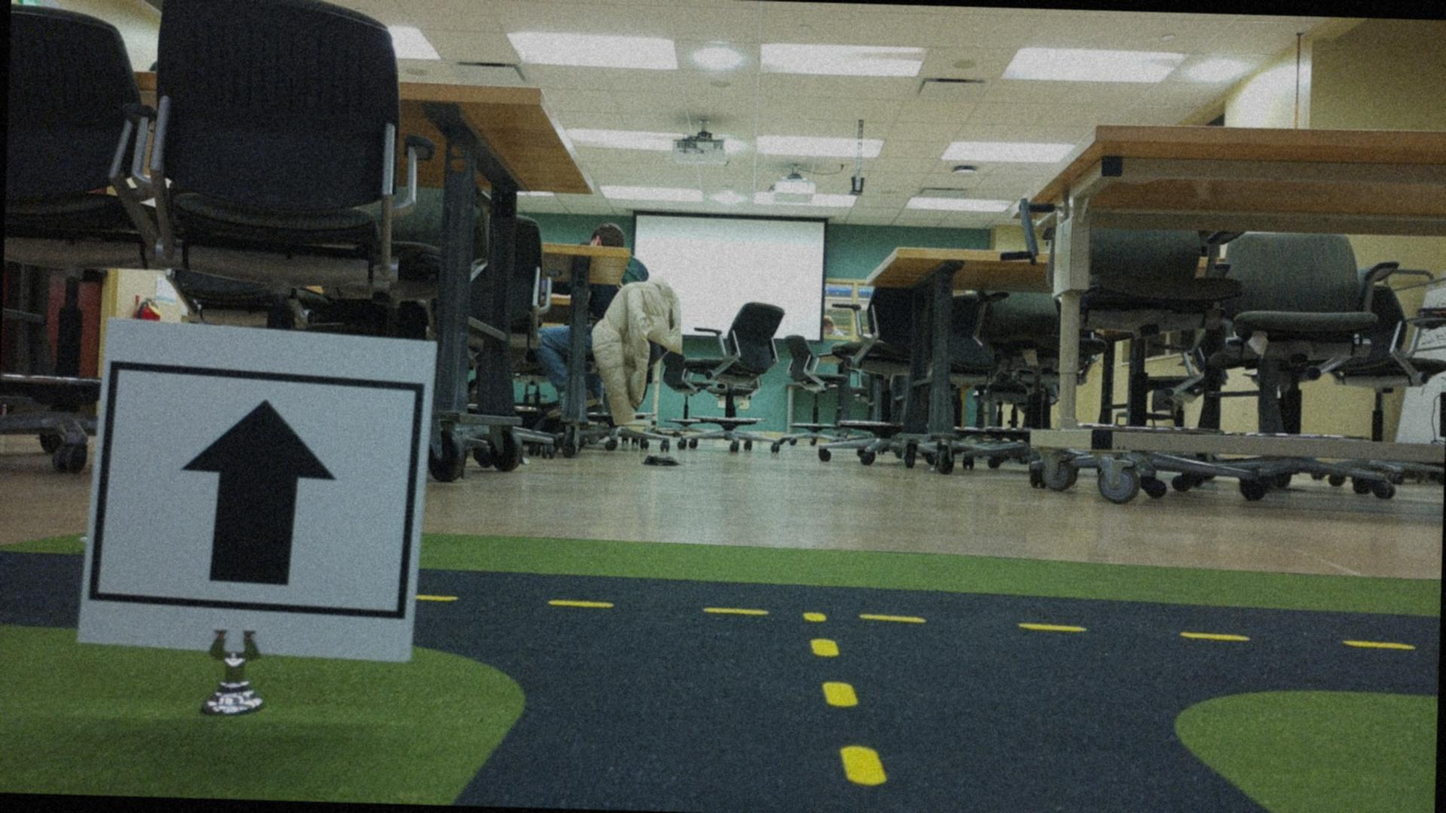gostraight: (99, 334, 428, 647)
yellowline: (420, 591, 1421, 649), (799, 613, 889, 789)
